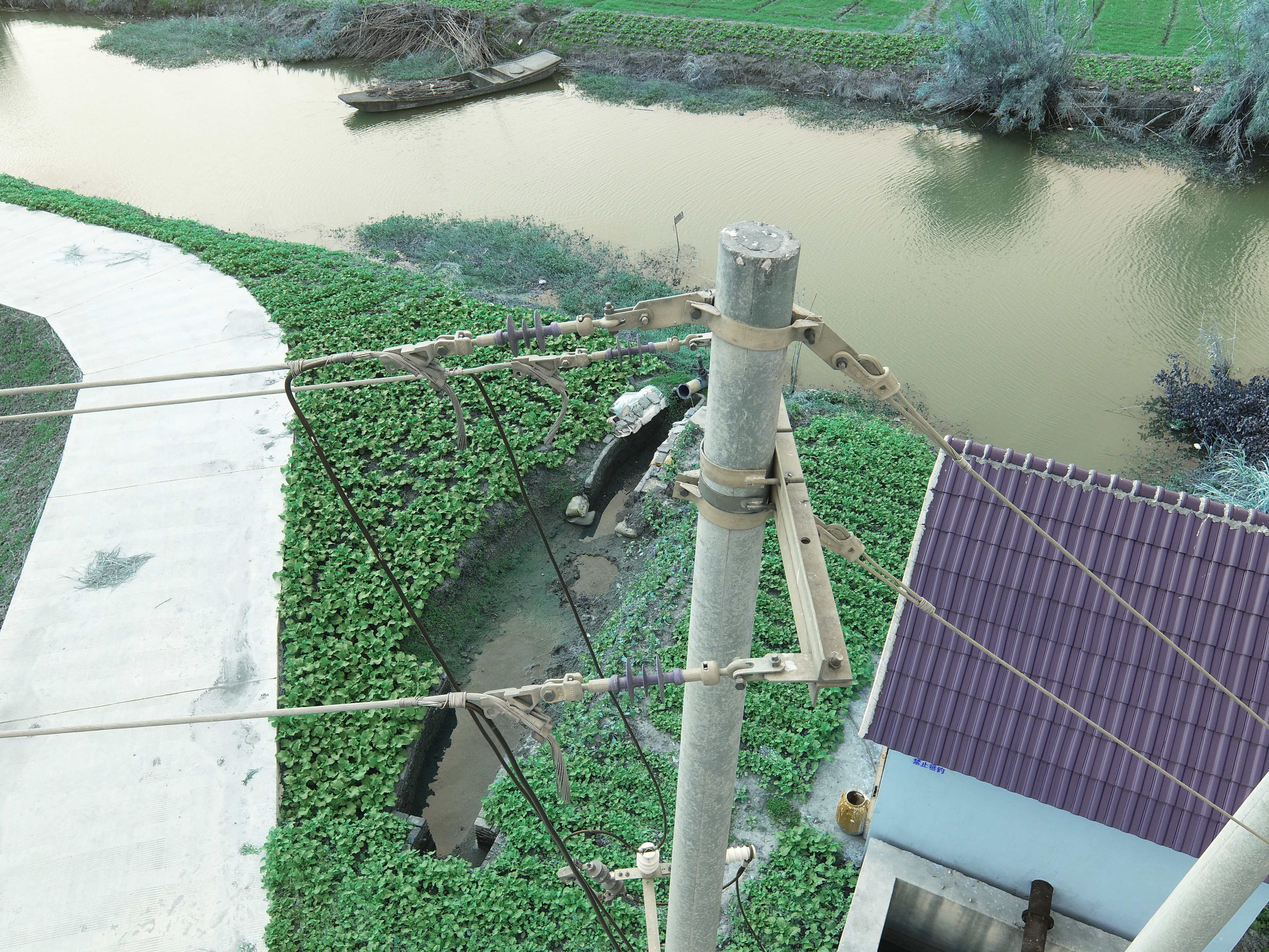severe_soiling_no_discharge_whole: (618, 649, 682, 710), (498, 310, 557, 359)
